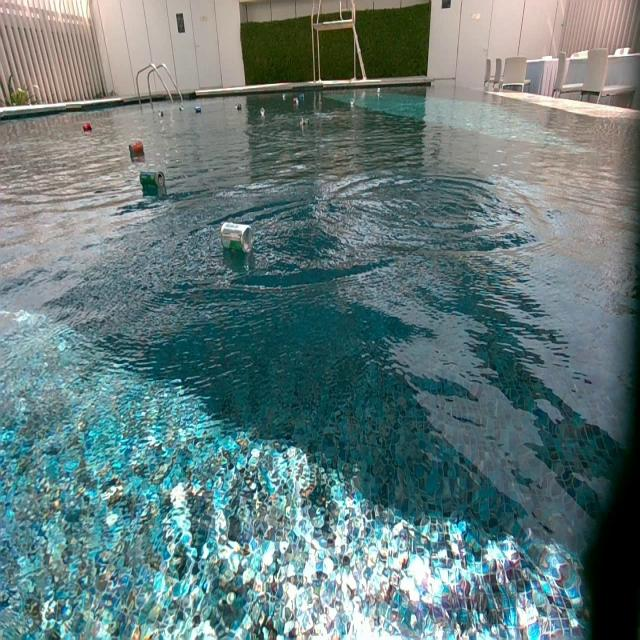Cans: (221, 223, 254, 256), (140, 171, 164, 189), (129, 141, 144, 156), (83, 123, 94, 134), (82, 121, 92, 132), (302, 116, 311, 128), (295, 95, 303, 104), (236, 103, 244, 112), (193, 106, 201, 114), (159, 110, 166, 118), (258, 108, 265, 116), (377, 90, 383, 98), (281, 95, 287, 102), (293, 97, 299, 104), (350, 98, 355, 106), (179, 106, 184, 112)
